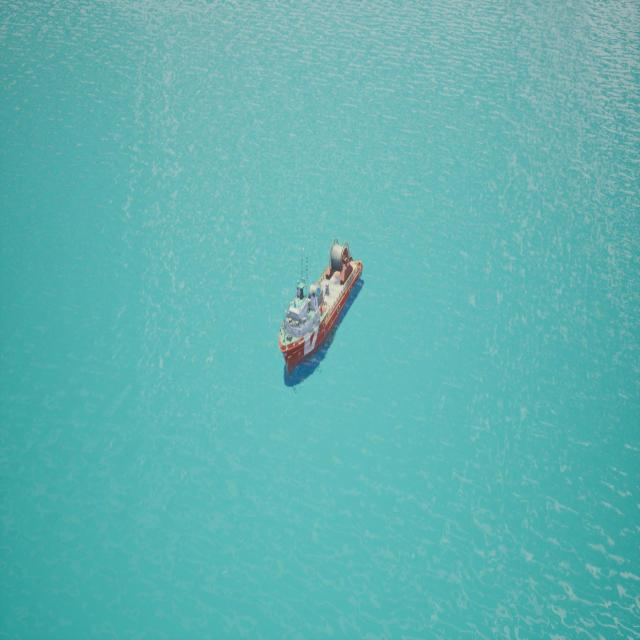tug boat: (257, 218, 407, 400)
